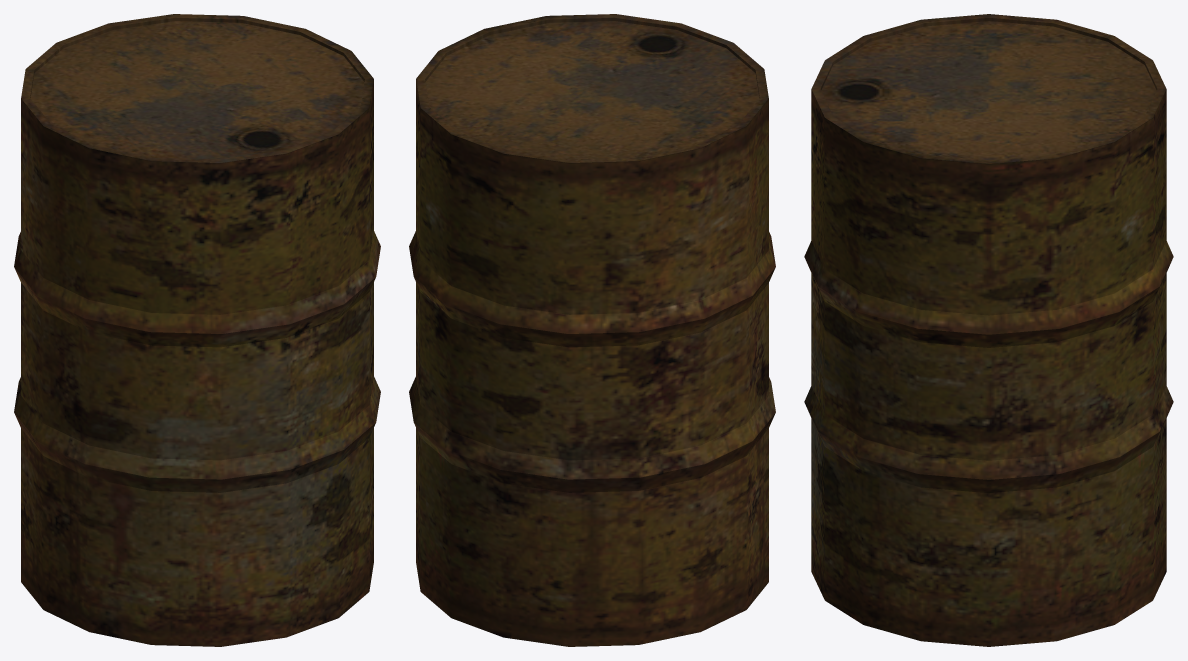
File: metal_barrel_mp_1.obj
The picture shows the model from 3 angles, left to right: view 1: azimuth 30°, elevation 25°; view 2: azimuth 150°, elevation 25°; view 3: azimuth 270°, elevation 25°; orthographic projection.
Parts seen in each view (by area): view 1: metal_barrel_mp_1; view 2: metal_barrel_mp_1; view 3: metal_barrel_mp_1.
Part boxes in pixels (<box>): metal_barrel_mp_1: <box>14,14,380,646</box>; metal_barrel_mp_1: <box>409,14,775,646</box>; metal_barrel_mp_1: <box>804,14,1173,646</box>.
Bounding box in the file's own units: 0.7488 × 1.08 × 0.7488.
